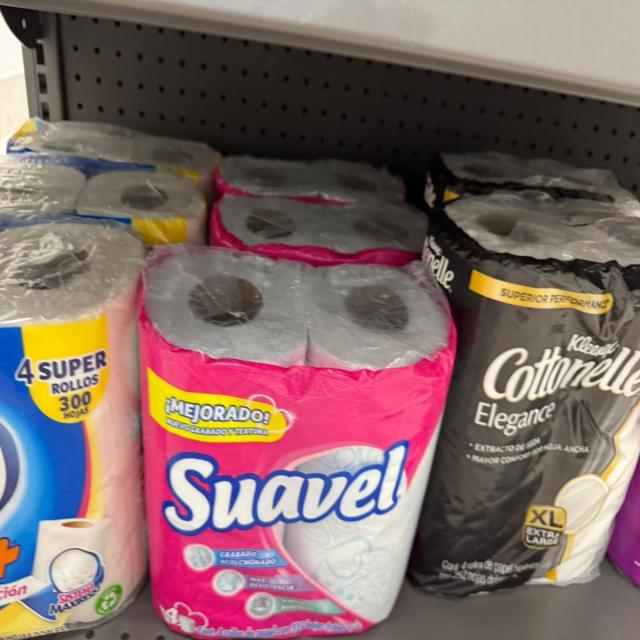Higienico Cottonelle Elegance XL 252h: (444, 197, 640, 593), (428, 138, 624, 198)
Higienico Suavel 325h 4rollos: (144, 244, 420, 640), (221, 187, 425, 257), (214, 144, 406, 201)
Papel Regio Rinde 4pz: (0, 232, 143, 640), (23, 101, 214, 184), (0, 178, 211, 234)
